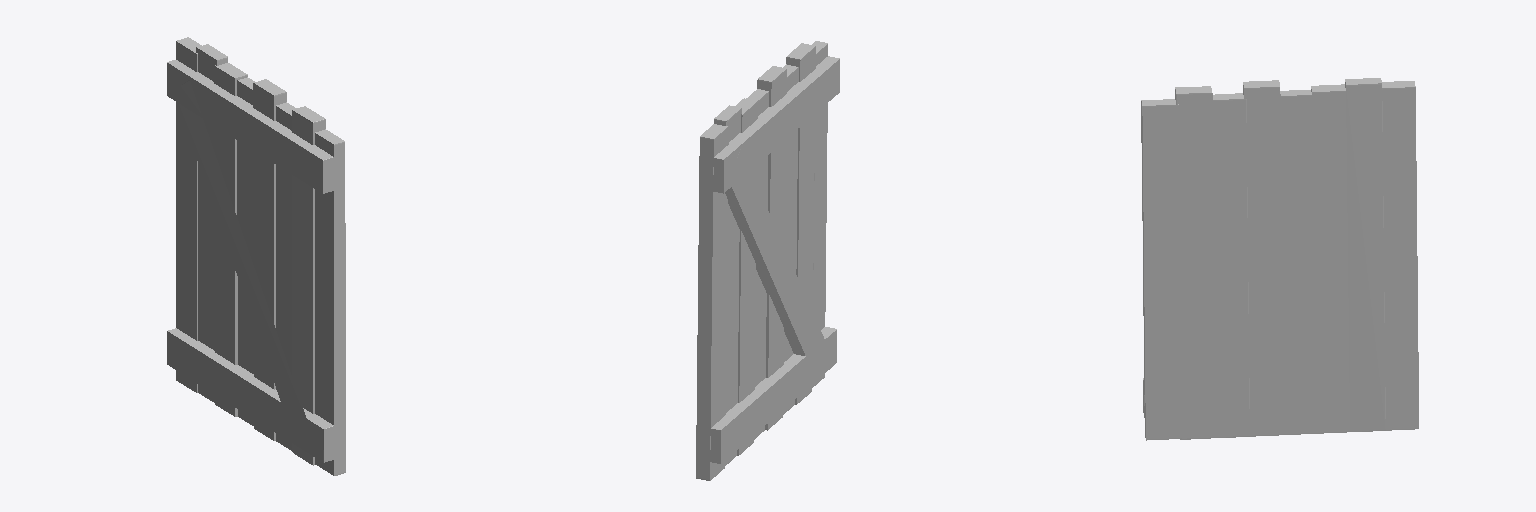
The model's file is PestabloIzq.obj.
3 renders of one model, left to right at view 1: azimuth 30°, elevation 25°; view 2: azimuth 150°, elevation 25°; view 3: azimuth 270°, elevation 25°, orthographic.
Parts seen in each view (by area): view 1: polySurface1924; view 2: polySurface1924; view 3: polySurface1924.
Part boxes in pixels (x1,y1,x2,y2): polySurface1924: (167,37,345,475); polySurface1924: (696,41,839,480); polySurface1924: (1141,78,1418,440).
Bounding box in the file's own units: 0.0758 × 0.5587 × 0.4045.